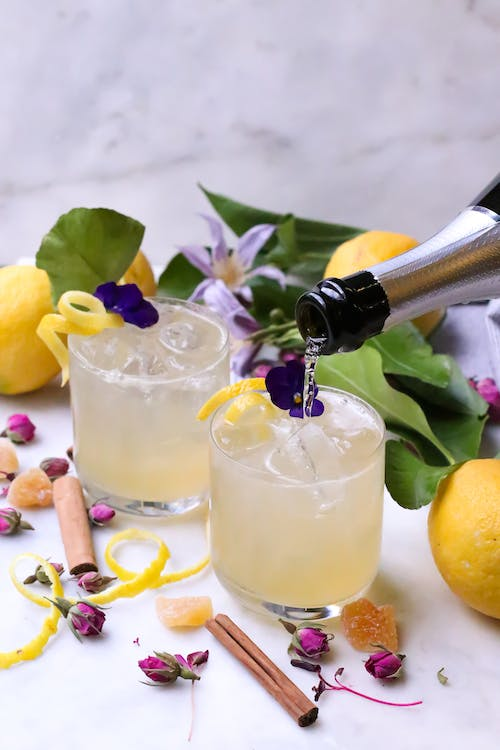alcohol: (206, 382, 388, 621), (293, 169, 500, 359), (66, 294, 232, 520)
